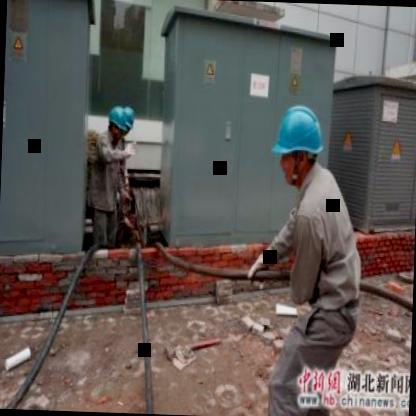helmet: (268, 100, 329, 192), (106, 100, 128, 144), (123, 105, 138, 139)
